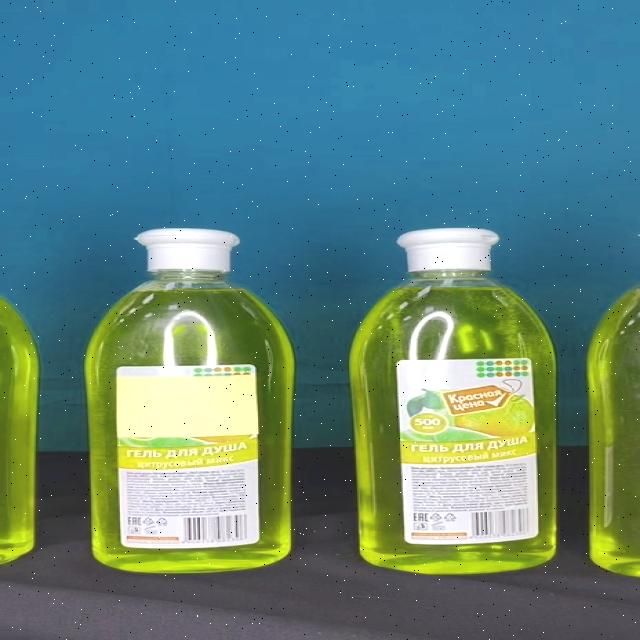Bottle: (84, 227, 294, 574), (349, 228, 556, 574)
Cap: (134, 228, 239, 271), (396, 228, 500, 270)
